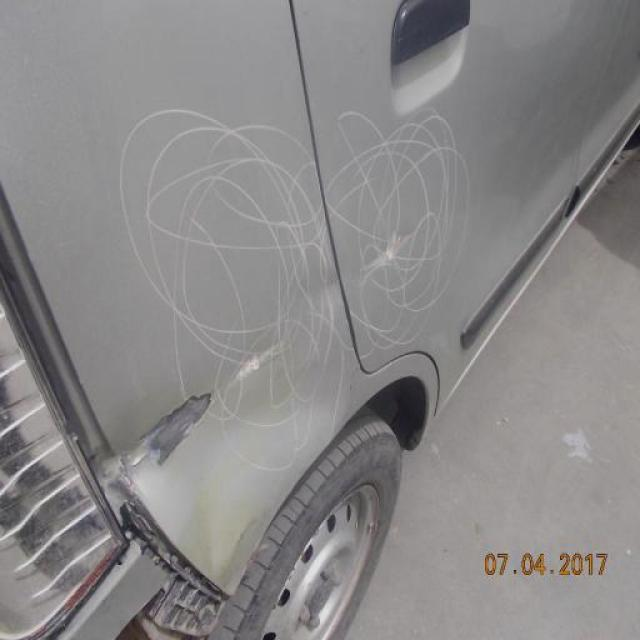Car-Damage: (2, 182, 230, 640), (123, 389, 222, 483), (225, 327, 302, 389), (361, 225, 424, 280), (228, 509, 264, 551)
